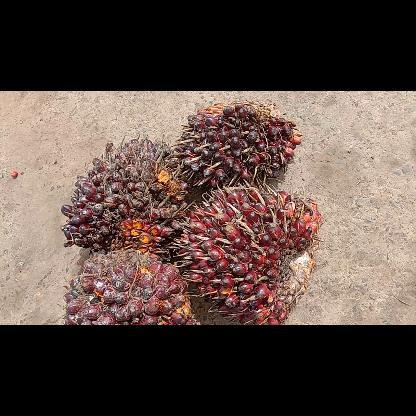Kurang masak: (171, 178, 323, 324), (58, 134, 188, 264)
TBS mentah: (170, 99, 304, 193), (62, 248, 204, 324)
